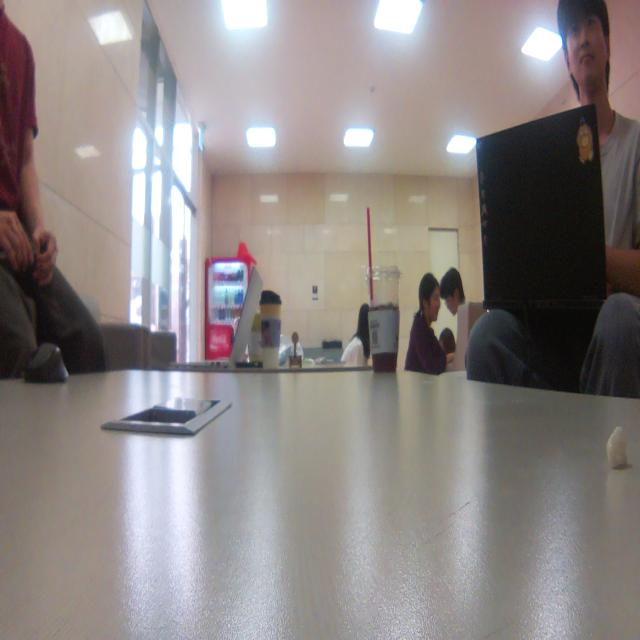target: (289, 330, 303, 370)
